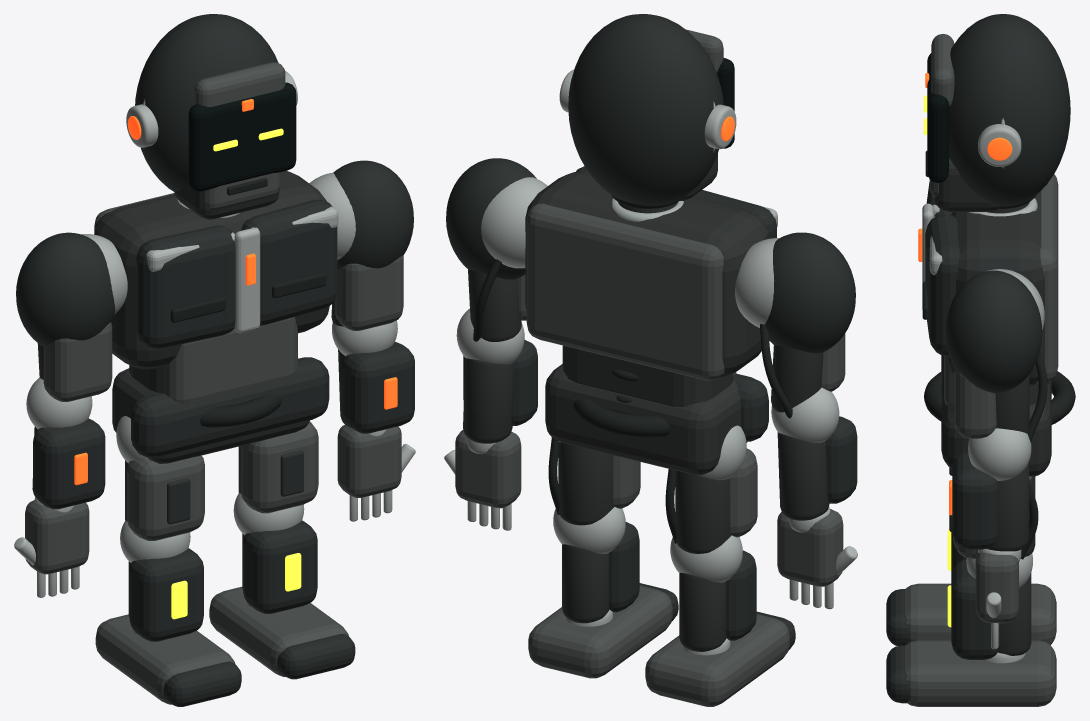
The model's file is cursor-robot.glb.
3 renders of one model, left to right at view 1: azimuth 30°, elevation 25°; view 2: azimuth 150°, elevation 25°; view 3: azimuth 270°, elevation 25°, orthographic. The views are drawn at different scales.
Parts seen in each view (by area): view 1: CranialShell, ChestPlate_L, RibCore, DeltoidShell_L, FaceVisor, PelvisShell, AbdomenShell, ChestPlate_R, DeltoidShell_R, Foot_L, Foot_R, ShinArmor_L (+31 smaller); view 2: BackShell, CranialShell, PelvisCore, RibCore, DeltoidShell_L, Foot_R, Foot_L, DeltoidShell_R, AbdomenCore, Palm_R, ThighFrame_L, ThighFrame_R (+30 smaller); view 3: CranialShell, DeltoidShell_R, Foot_R, RibCore, Foot_L, ForearmShell_R, ChestPlate_R, BackShell, ShinArmor_R, Palm_R, ElbowCore_R, ForearmFrame_R (+22 smaller).
Part boxes in pixels (x1,y1,x2,y2): CranialShell: [135, 14, 278, 191]; ChestPlate_L: [136, 225, 235, 348]; RibCore: [94, 171, 329, 369]; DeltoidShell_L: [16, 232, 115, 346]; FaceVisor: [188, 82, 296, 191]; PelvisShell: [131, 357, 329, 457]; AbdomenShell: [164, 317, 297, 404]; ChestPlate_R: [241, 199, 337, 325]; DeltoidShell_R: [333, 160, 413, 269]; Foot_L: [95, 614, 235, 704]; Foot_R: [209, 586, 348, 676]; ShinArmor_L: [129, 548, 203, 641]; BackShell: [526, 203, 724, 380]; CranialShell: [568, 14, 723, 205]; PelvisCore: [545, 364, 747, 474]; RibCore: [525, 172, 769, 377]; DeltoidShell_L: [764, 232, 855, 353]; Foot_R: [528, 585, 672, 678]; Foot_L: [645, 614, 789, 706]; DeltoidShell_R: [446, 158, 536, 279]; AbdomenCore: [562, 345, 733, 406]; Palm_R: [455, 430, 521, 508]; ThighFrame_L: [675, 470, 731, 553]; ThighFrame_R: [558, 442, 614, 525]; CranialShell: [949, 14, 1070, 206]; DeltoidShell_R: [945, 270, 1042, 393]; Foot_R: [904, 640, 1056, 706]; RibCore: [947, 191, 1044, 385]; Foot_L: [904, 583, 1056, 644]; ForearmShell_R: [952, 452, 998, 549]; ChestPlate_R: [925, 214, 959, 356]; BackShell: [1037, 174, 1058, 383]; ShinArmor_R: [951, 559, 1000, 659]; Palm_R: [975, 549, 1018, 623]; ElbowCore_R: [968, 428, 1031, 480]; ForearmFrame_R: [986, 462, 1029, 551].
Bounding box in the file's own units: 2.81 × 4.27 × 1.13.
